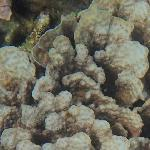dead: (1, 2, 144, 146)
